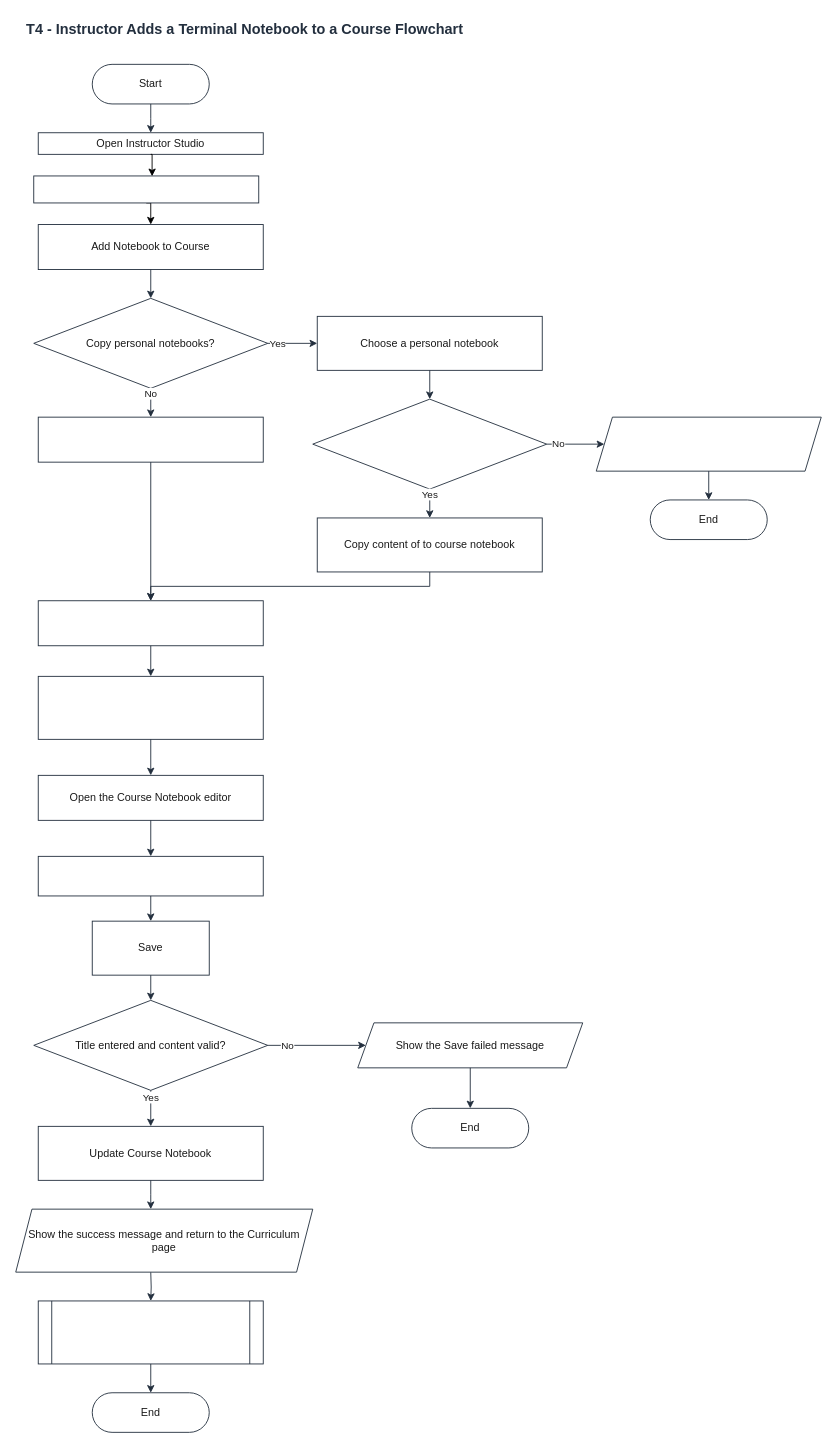
This 837x1448 diagram has some shape labels left out. Here are the shapes that lost their labels. From the top down, the centre of each, then its label:
pixel 146 189: choose owned courses and open its Course Notebook tab
pixel 150 439: Enter an optional title
pixel 429 443: Notebook found and have ownership?
pixel 708 443: Show could not be found
pixel 150 623: Insert a Course Notebook row
pixel 150 707: Remove approval from the course
pixel 150 875: Add or edit blocks
pixel 150 1332: Submit the course for Admin review Follow (A9)
